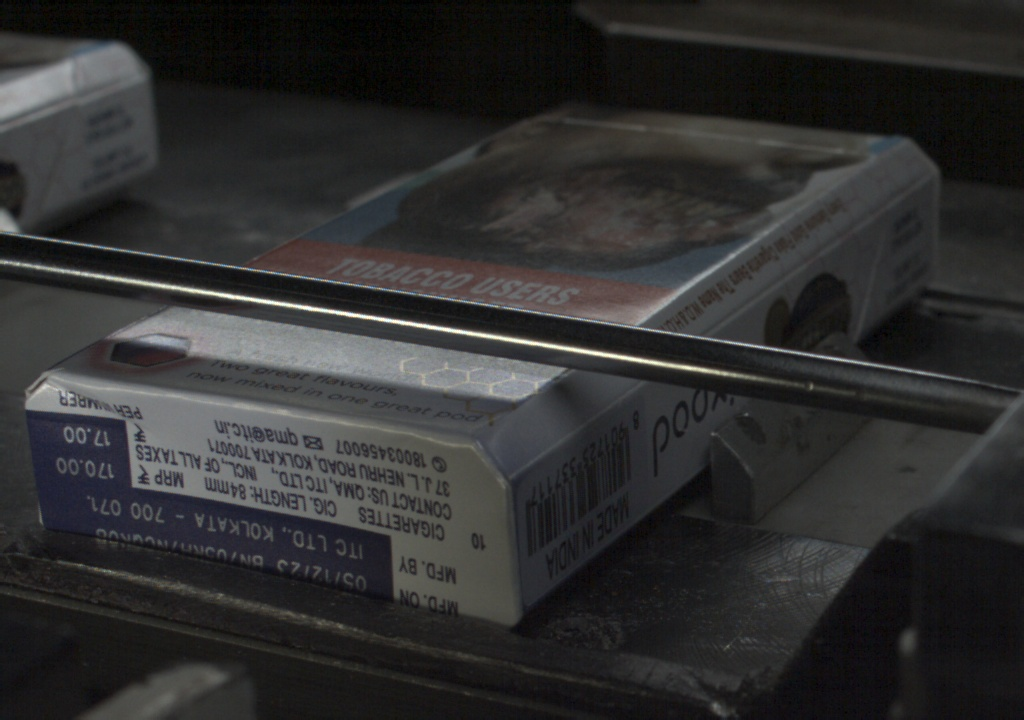g_label: (37, 487, 394, 596)
g_lmiter: (706, 266, 795, 331), (795, 205, 885, 266), (569, 382, 639, 436), (506, 436, 569, 475)
g_miter: (887, 165, 938, 205)
ng_bottom: (21, 380, 141, 440)
price: (31, 418, 127, 487)
